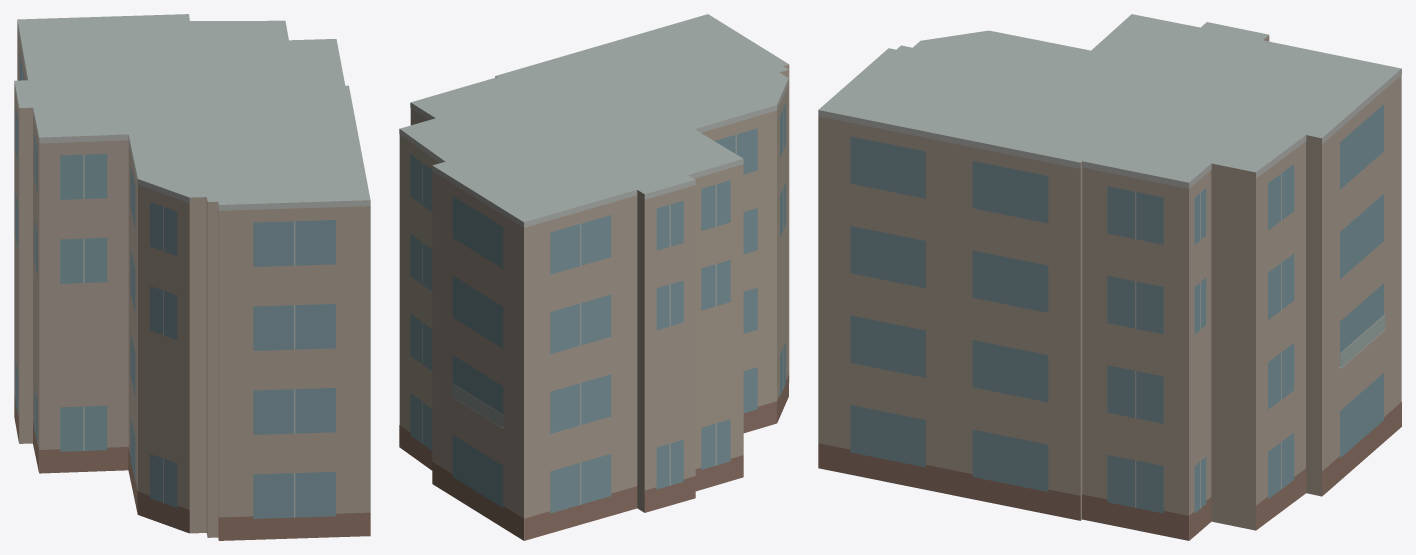
File: survey-upis-32970967.glb
The picture shows the model from 3 angles, left to right: view 1: azimuth 30°, elevation 25°; view 2: azimuth 150°, elevation 25°; view 3: azimuth 270°, elevation 25°; orthographic projection. The views are drawn at different scales.
Parts seen in each view (by area): view 1: survey-upis-32970967.tmp; view 2: survey-upis-32970967.tmp; view 3: survey-upis-32970967.tmp.
Part boxes in pixels (x1,y1,x2,y2): survey-upis-32970967.tmp: [14, 14, 370, 540]; survey-upis-32970967.tmp: [399, 14, 789, 540]; survey-upis-32970967.tmp: [818, 14, 1401, 540].
Bounding box in the file's own units: 14.2 × 14.05 × 20.76.
